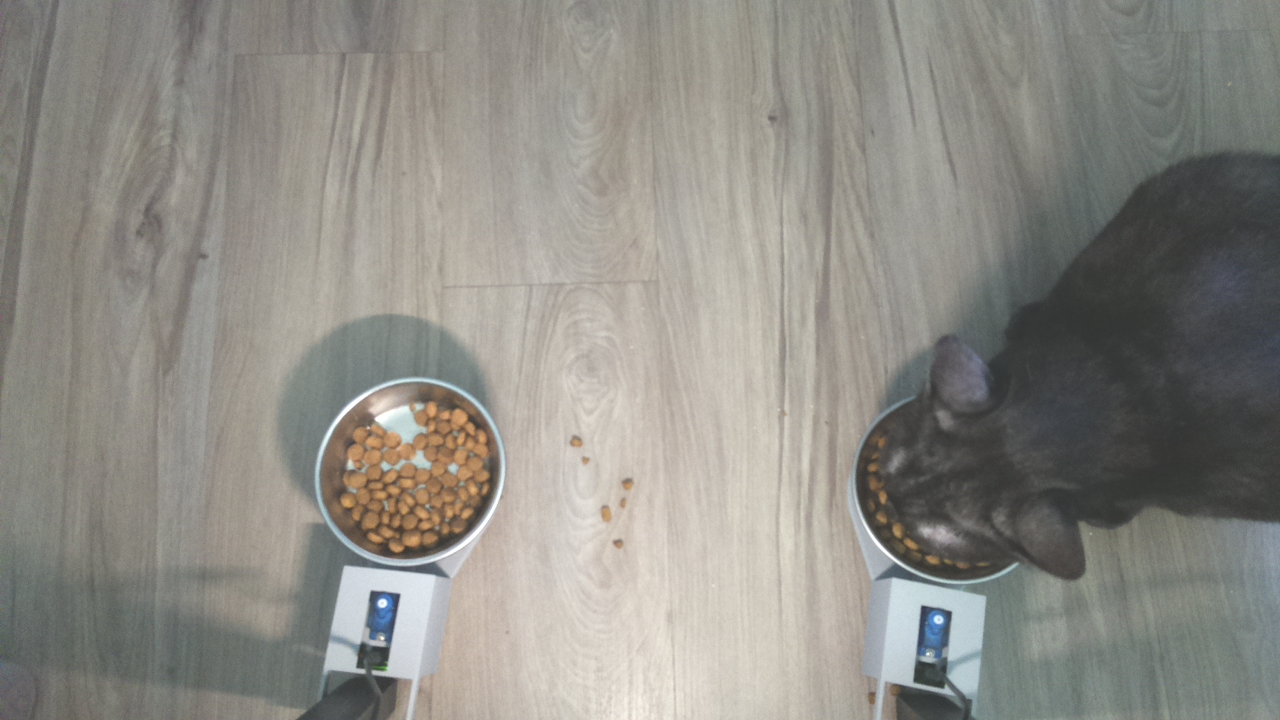open_bowl: (311, 375, 506, 568)
saki_eating: (850, 313, 1134, 590)
